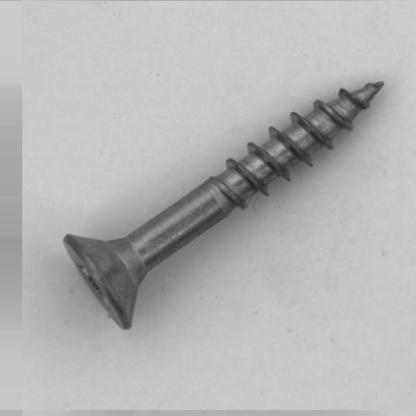metal: (62, 78, 386, 334)
